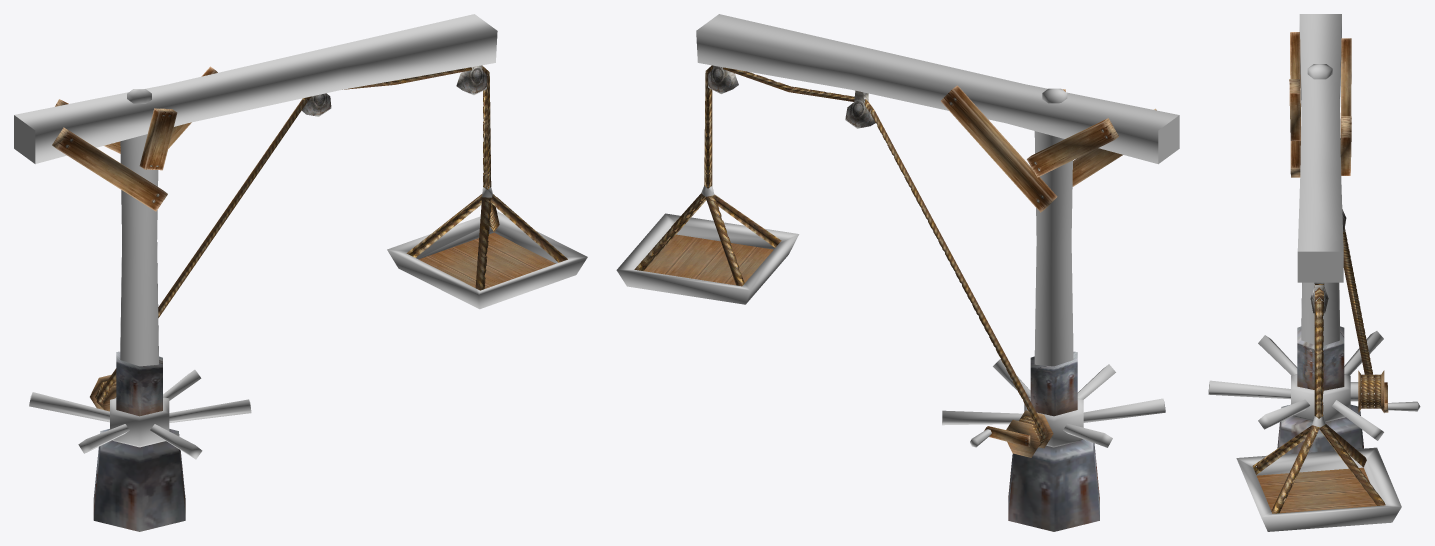
The model's file is excavationcrane.obj.
The picture shows the model from 3 angles, left to right: view 1: azimuth 30°, elevation 25°; view 2: azimuth 150°, elevation 25°; view 3: azimuth 270°, elevation 25°; orthographic projection.
Visible parts, largest first — view 1: EXCAVATIONCRANE2, EXCAVATIONCRANE7, EXCAVATIONCRANE0, EXCAVATIONCRANE5, EXCAVATIONCRANE4, EXCAVATIONCRANE3, EXCAVATIONCRANE1, EXCAVATIONCRANE6; view 2: EXCAVATIONCRANE2, EXCAVATIONCRANE7, EXCAVATIONCRANE0, EXCAVATIONCRANE4, EXCAVATIONCRANE5, EXCAVATIONCRANE3, EXCAVATIONCRANE1, EXCAVATIONCRANE6; view 3: EXCAVATIONCRANE2, EXCAVATIONCRANE5, EXCAVATIONCRANE3, EXCAVATIONCRANE7, EXCAVATIONCRANE4, EXCAVATIONCRANE1, EXCAVATIONCRANE0, EXCAVATIONCRANE6.
Boxes of the visible parts, x1,y1,x2,y2 form: EXCAVATIONCRANE2: (14,14,587,459); EXCAVATIONCRANE7: (93,351,185,531); EXCAVATIONCRANE0: (120,134,158,366); EXCAVATIONCRANE5: (95,66,567,409); EXCAVATIONCRANE4: (52,66,217,211); EXCAVATIONCRANE3: (90,232,555,411); EXCAVATIONCRANE1: (110,89,492,447); EXCAVATIONCRANE6: (302,65,487,116); EXCAVATIONCRANE2: (616,14,1179,447); EXCAVATIONCRANE7: (1008,351,1099,531); EXCAVATIONCRANE0: (1034,131,1073,366); EXCAVATIONCRANE4: (941,85,1156,446); EXCAVATIONCRANE5: (634,65,1048,447); EXCAVATIONCRANE3: (644,234,1053,457); EXCAVATIONCRANE1: (701,88,1083,447); EXCAVATIONCRANE6: (707,65,875,128); EXCAVATIONCRANE2: (1208,14,1401,531); EXCAVATIONCRANE5: (1252,228,1385,513); EXCAVATIONCRANE3: (1257,370,1384,513); EXCAVATIONCRANE7: (1277,326,1363,454); EXCAVATIONCRANE4: (1289,32,1388,412); EXCAVATIONCRANE1: (1291,64,1420,427); EXCAVATIONCRANE0: (1301,282,1339,345); EXCAVATIONCRANE6: (1310,209,1346,313).
Bounding box in the file's own units: 8.39 × 6.32 × 2.89.
